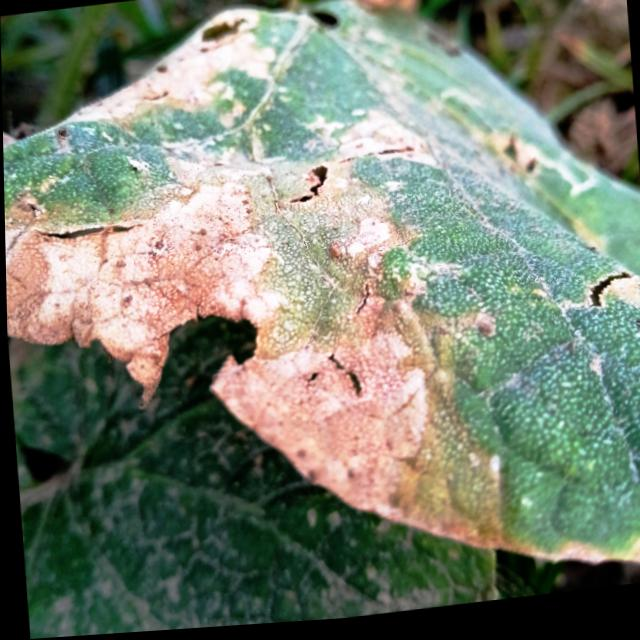Anthracnose: (280, 155, 337, 212), (586, 264, 637, 313)
